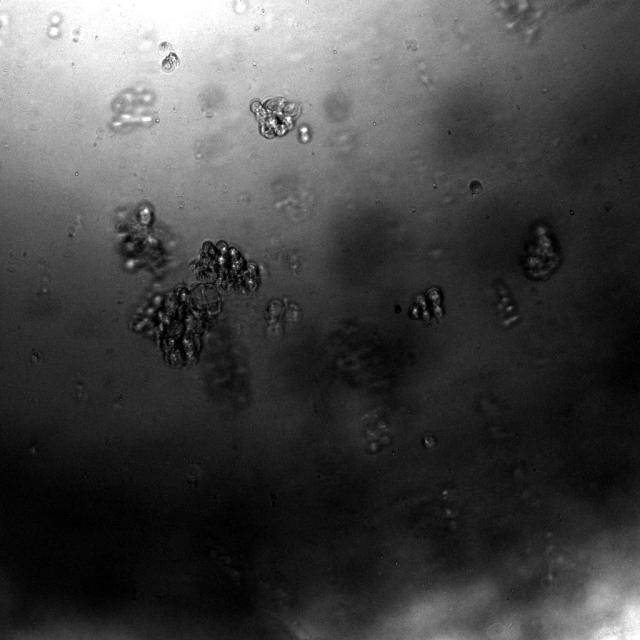organoid: (114, 200, 261, 366), (201, 319, 251, 410), (329, 323, 393, 393), (520, 219, 562, 280), (249, 96, 300, 138), (110, 86, 156, 132), (264, 297, 301, 339), (493, 279, 519, 329), (362, 410, 392, 453), (408, 286, 444, 321), (158, 41, 179, 73), (46, 12, 62, 39), (298, 123, 312, 143), (468, 178, 483, 195), (421, 433, 438, 448), (299, 309, 299, 309)
